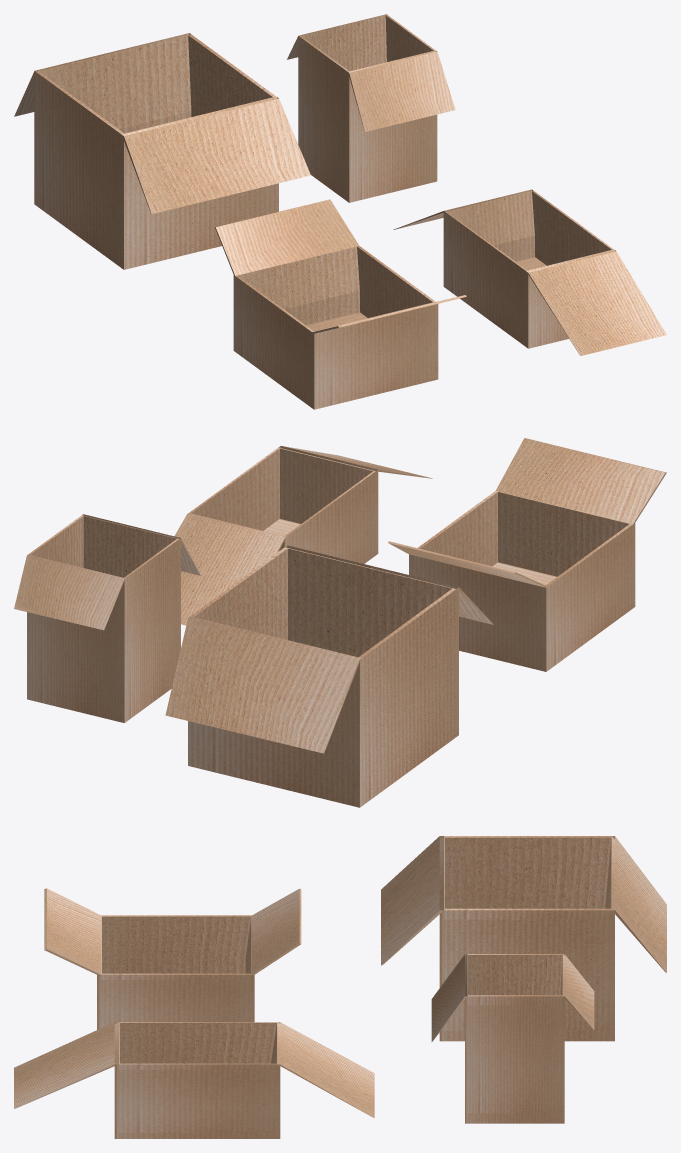
The model's file is cajas.fbx.
3 views of the same model, one above another, from view 1: azimuth 30°, elevation 25°; view 2: azimuth 150°, elevation 25°; view 3: azimuth 270°, elevation 25° (orthographic). The views are drawn at different scales.
Parts seen in each view (by area): view 1: Cube.001, Cube, Cube.002, Cube.003; view 2: Cube.001, Cube, Cube.003, Cube.002; view 3: Cube.001, Cube.002, Cube, Cube.003.
Boxes of the visible parts, x1,y1,x2,y2 form: Cube.001: (14,33,310,269); Cube: (215,199,466,409); Cube.002: (393,189,666,355); Cube.003: (287,14,455,202); Cube.001: (165,545,493,807); Cube: (388,438,666,671); Cube.003: (14,514,200,722); Cube.002: (174,446,432,625); Cube.001: (381,836,666,1041); Cube.002: (14,1022,374,1138); Cube: (44,888,301,1029); Cube.003: (431,954,594,1123).
Bounding box in the file's own units: 752 × 324 × 1309.
Materials: 4 (4 with a texture image).
